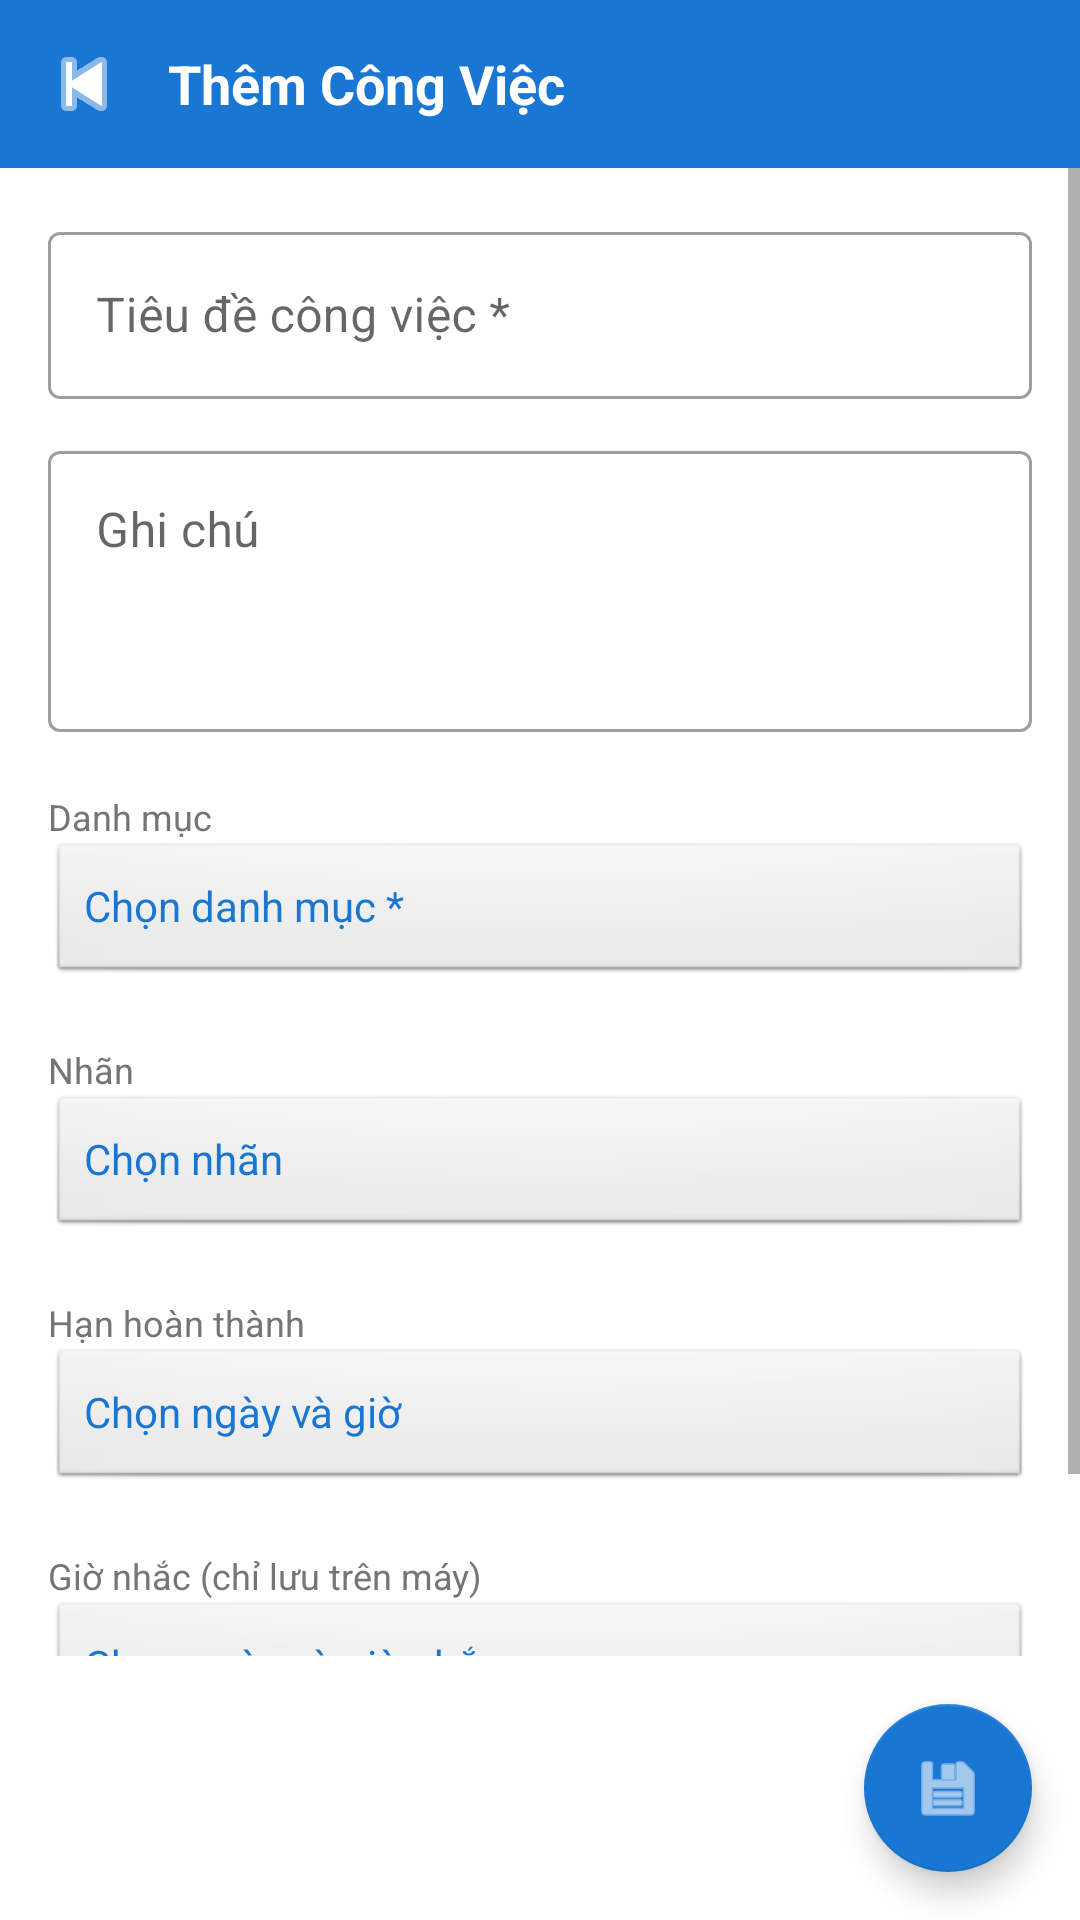

Named icons in this screenshot (1080x1920) and their bounding boxes, [x1,y1,x2,y2]:
previous: [61,57,107,111]
save: [864,1704,1032,1872]
